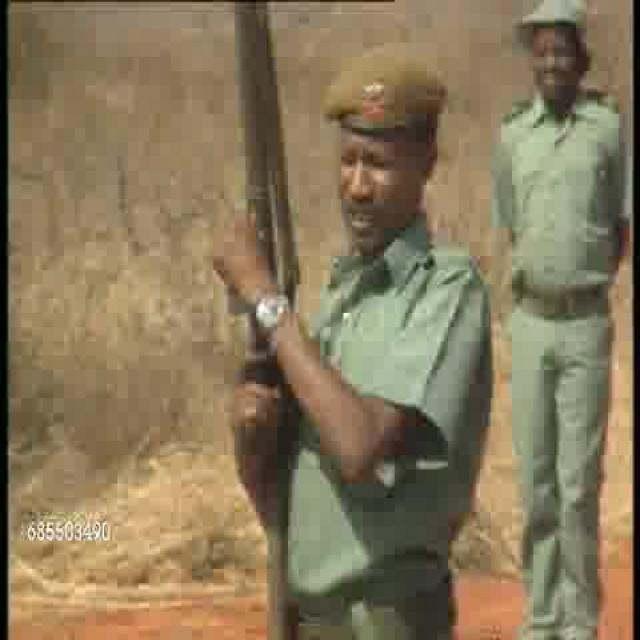poacher: (477, 1, 640, 638), (303, 42, 448, 628)
weapon: (232, 2, 287, 600)
